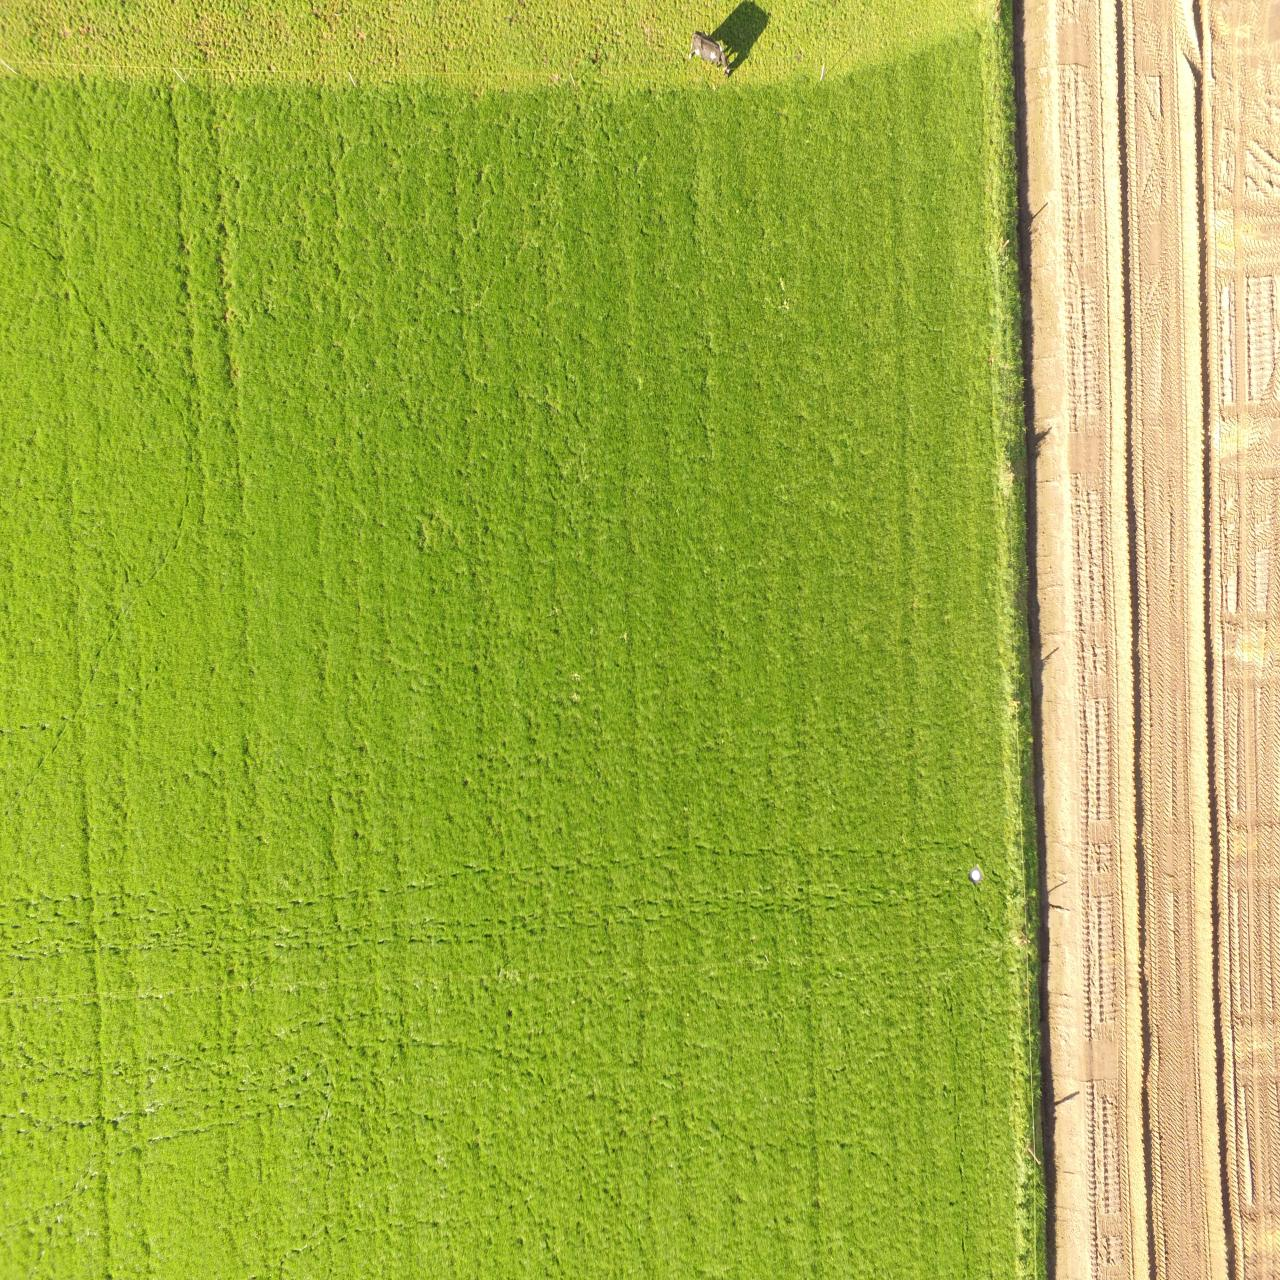cow: (685, 25, 735, 79)
